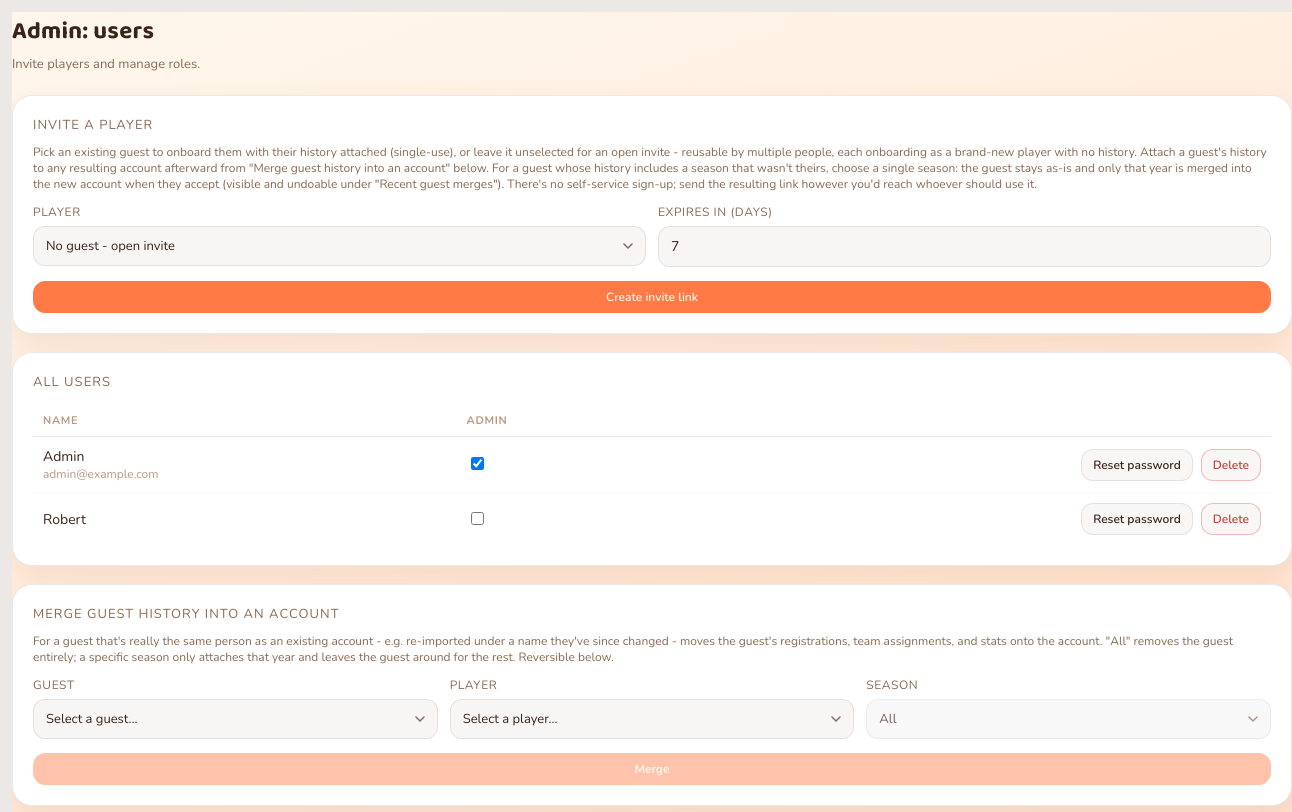
Test: AdminUsers - merging guests › keeps Merge disabled until a guest and a player are chosen
expect the button "Merge" is disabled: met, box [33, 753, 1271, 785]
Select "Benji" in the dropdown labelled "Guest" at point(235, 719), box [33, 699, 438, 739]
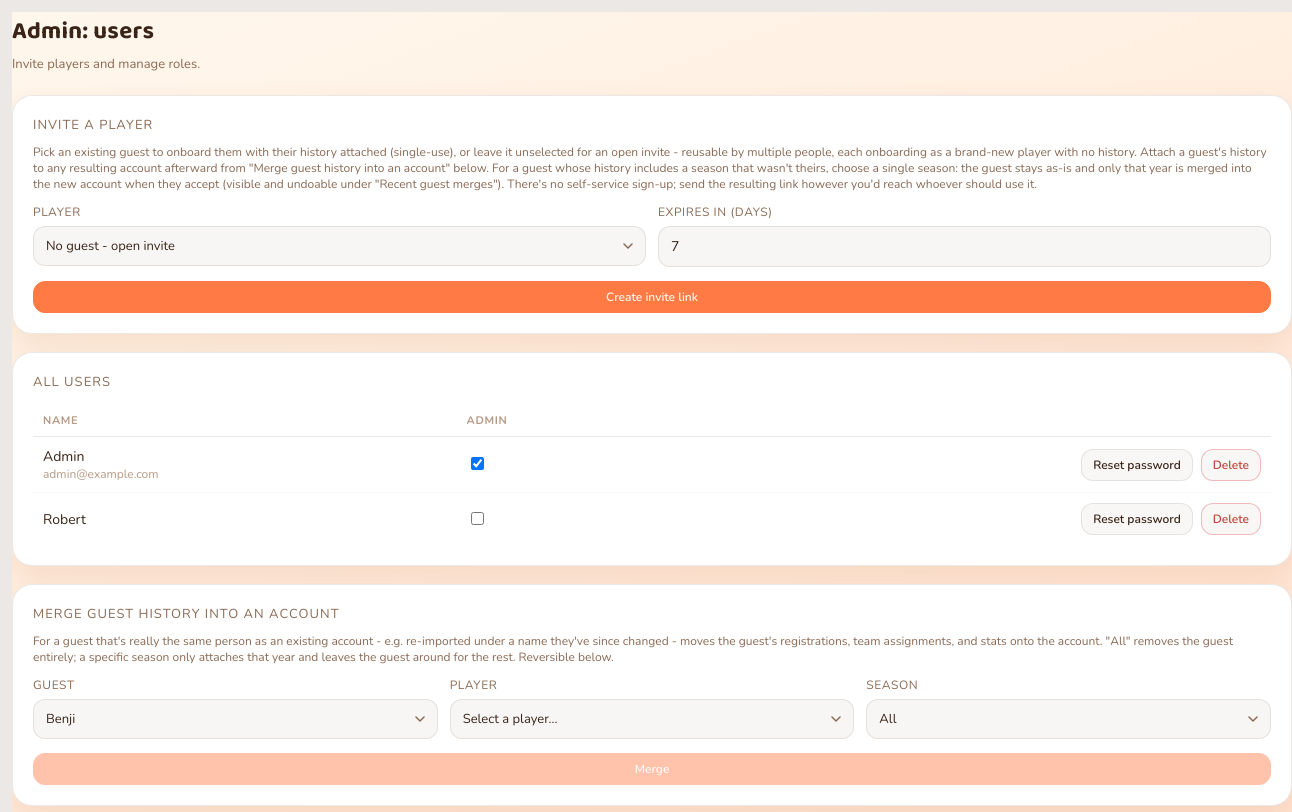
expect the button "Merge" is disabled: met, box [33, 753, 1271, 785]
Select "Robert" in the 2nd dropdown labelled "Player" at point(652, 719), box [450, 699, 854, 739]
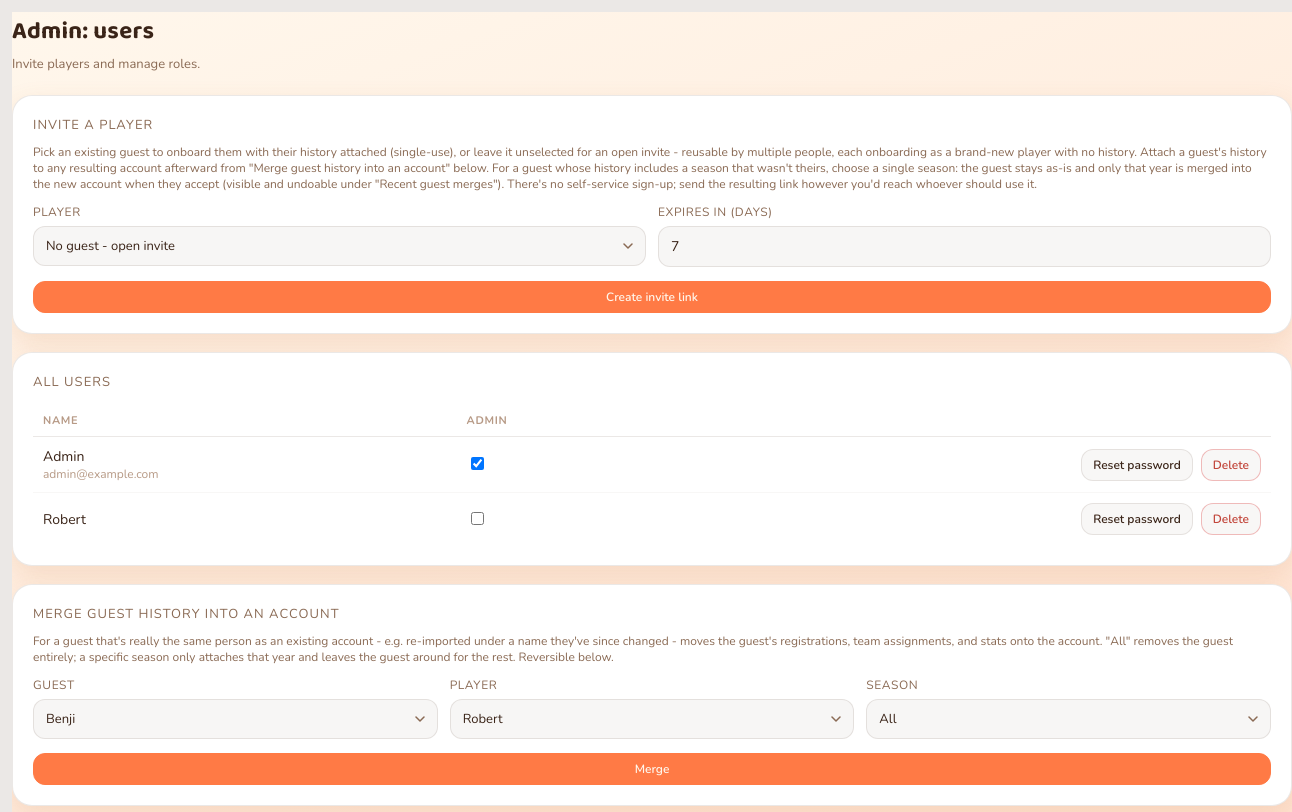
expect the button "Merge" is enabled: met, box [33, 753, 1271, 785]
